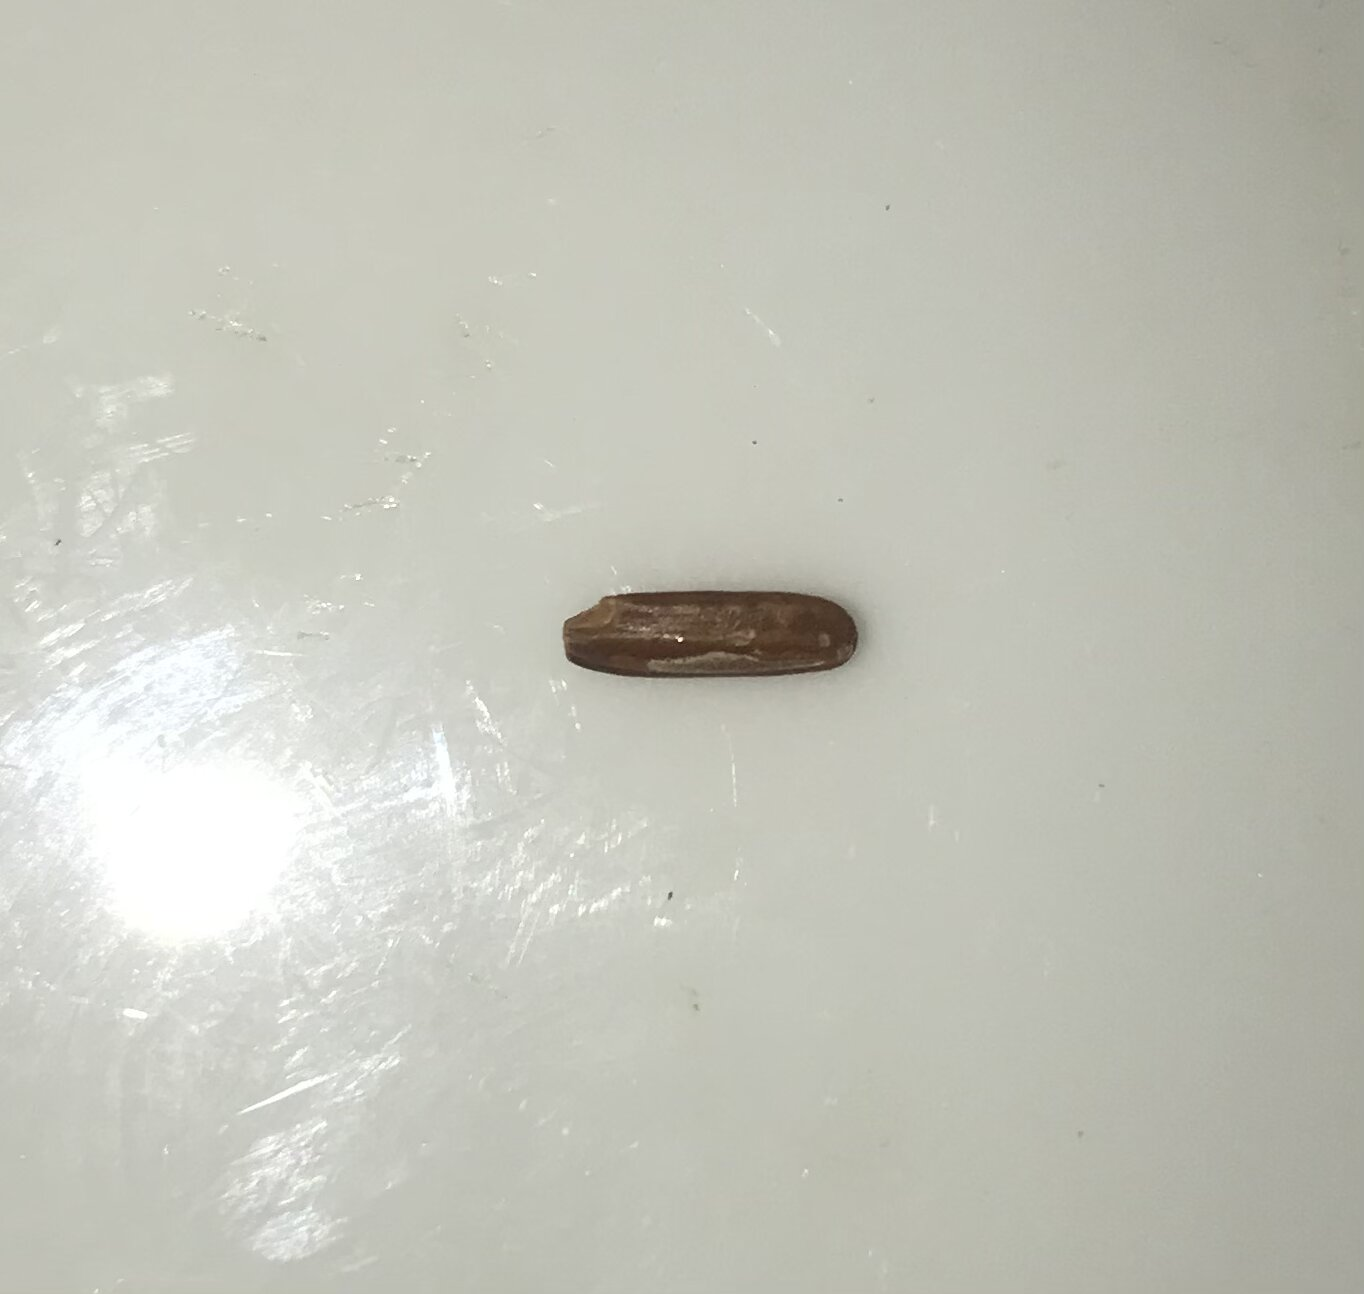Gao Huyet Rong: (543, 574, 873, 699)
